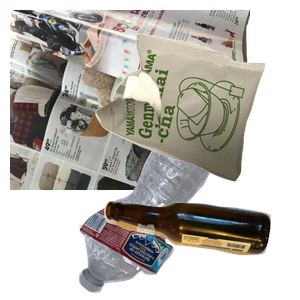glass: (101, 198, 300, 300)
paper: (10, 10, 250, 190)
plastic: (76, 131, 280, 300)
trash: (93, 31, 300, 205)
